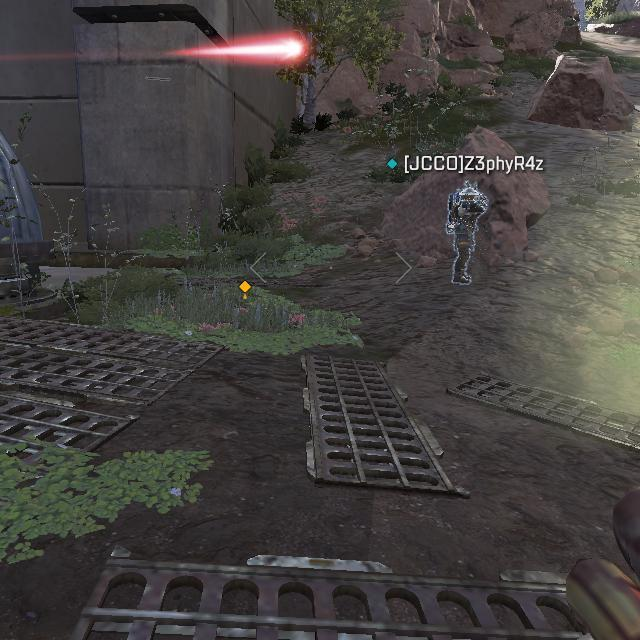avatar: (444, 178, 490, 287)
